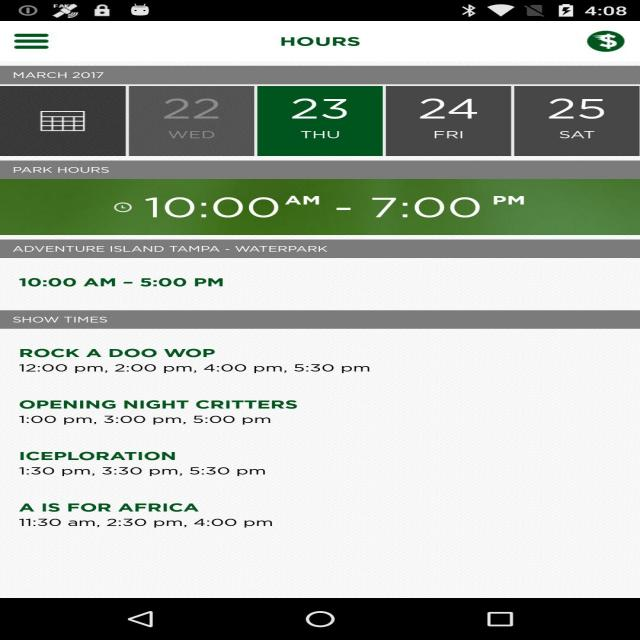text: (16, 83, 640, 540)
